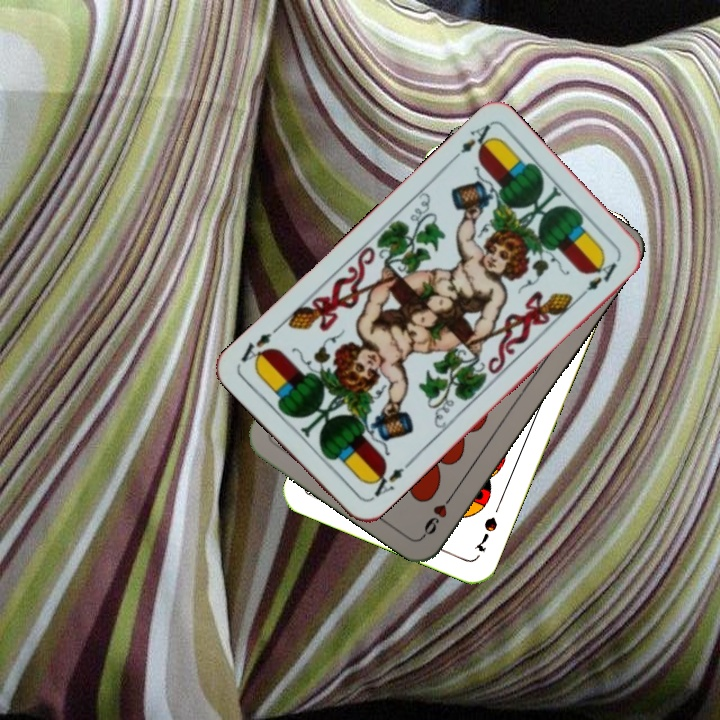EA: (445, 120, 498, 165), (365, 458, 413, 500)
H9: (419, 487, 458, 539)
S7: (469, 512, 500, 554)
